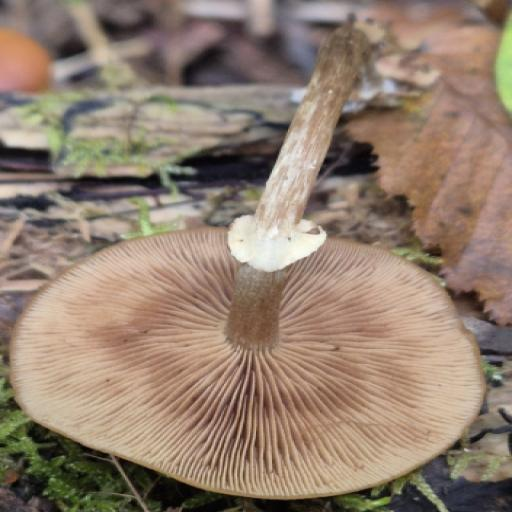mushroom: (15, 221, 489, 502)
